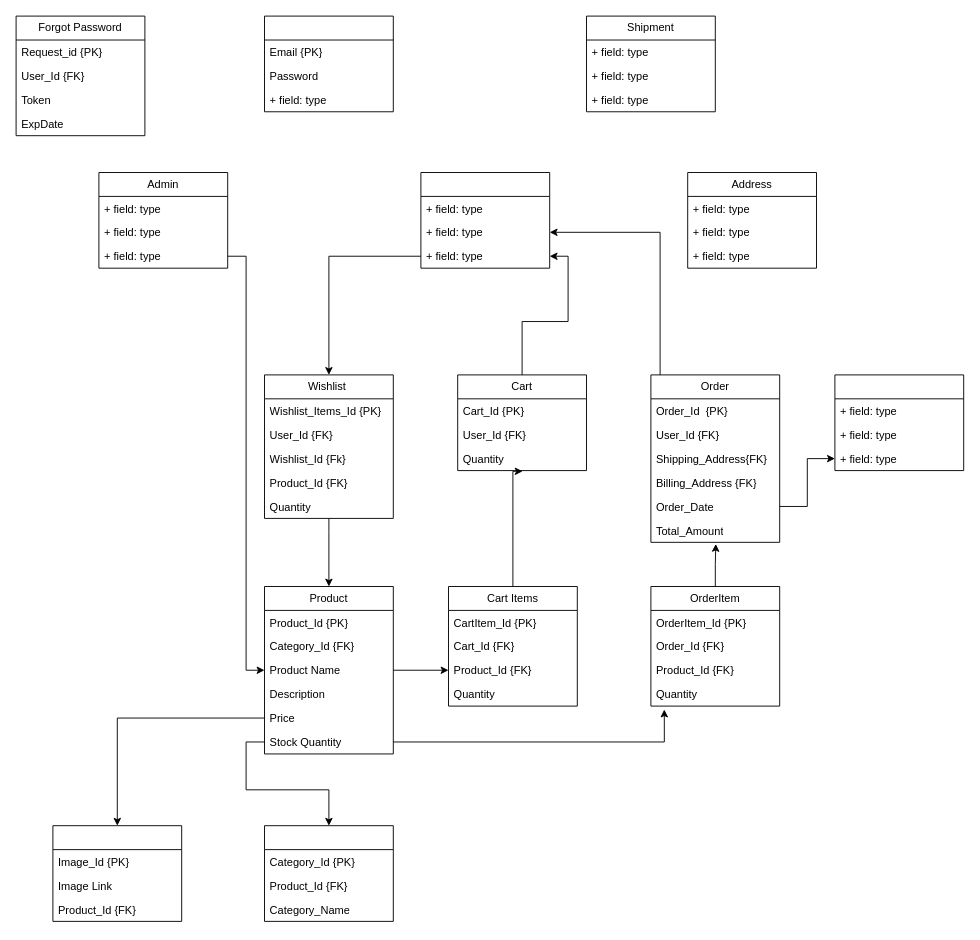
Some shapes in this 980 by 940 pixel diagram are drawn without their labels. The box of each missing label's shape, as (x1, y1, x2, y2) in pixels:
Client: (420, 172, 550, 268)
Invoice: (834, 374, 964, 471)
Product Category: (264, 825, 393, 921)
Product Images: (52, 825, 182, 921)
User: (264, 15, 393, 112)
